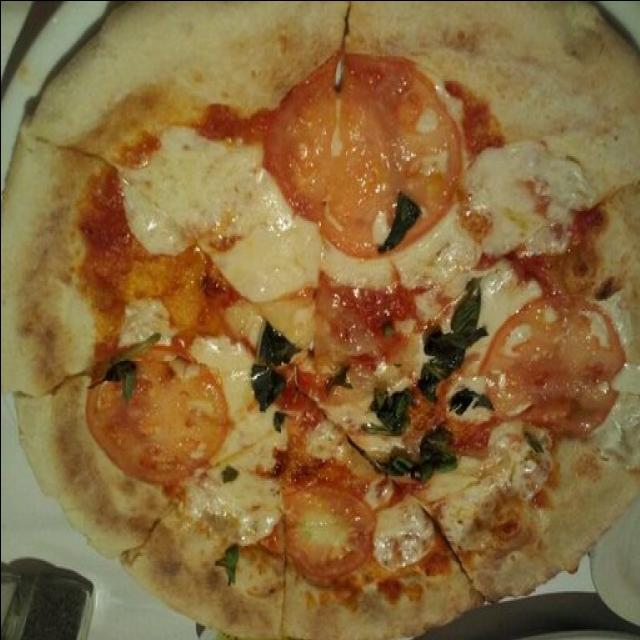basil: (152, 282, 222, 415), (340, 316, 392, 416), (184, 424, 266, 486), (219, 193, 265, 256), (223, 383, 275, 436), (503, 360, 555, 404), (400, 542, 426, 587)
pizza: (0, 0, 640, 640)
